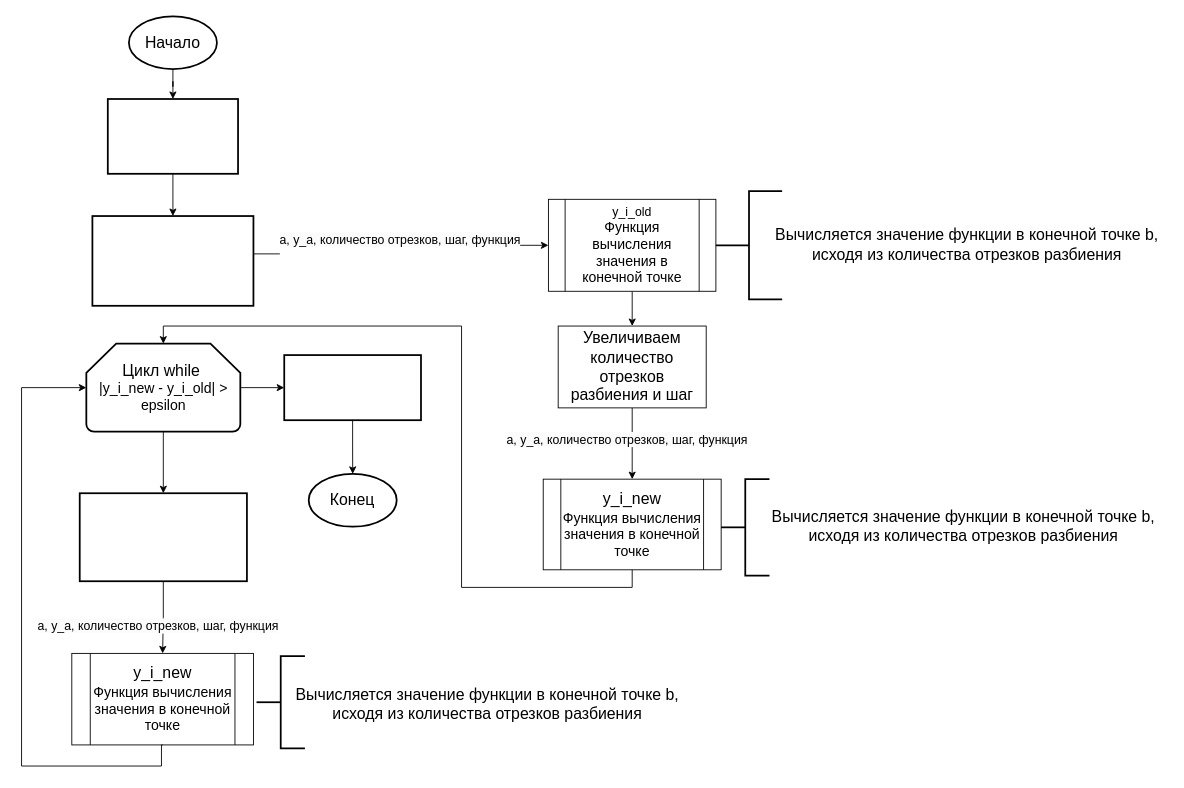
Some shapes in this 1184 by 788 pixel diagram are drawn without their labels. The box of each missing label's shape, as (x1, y1, x2, y2) in pixels:
y_i_new = y_i_old Увеличиваем количество отрезков и уменьшаем шаг: (78, 492, 247, 582)
Ввод f, epsilon, a, y_a, b: (106, 98, 238, 174)
Выводим последнее значение: (283, 354, 421, 421)
Устанавливаем начальное количество отрезков и шаг: (91, 215, 254, 306)
